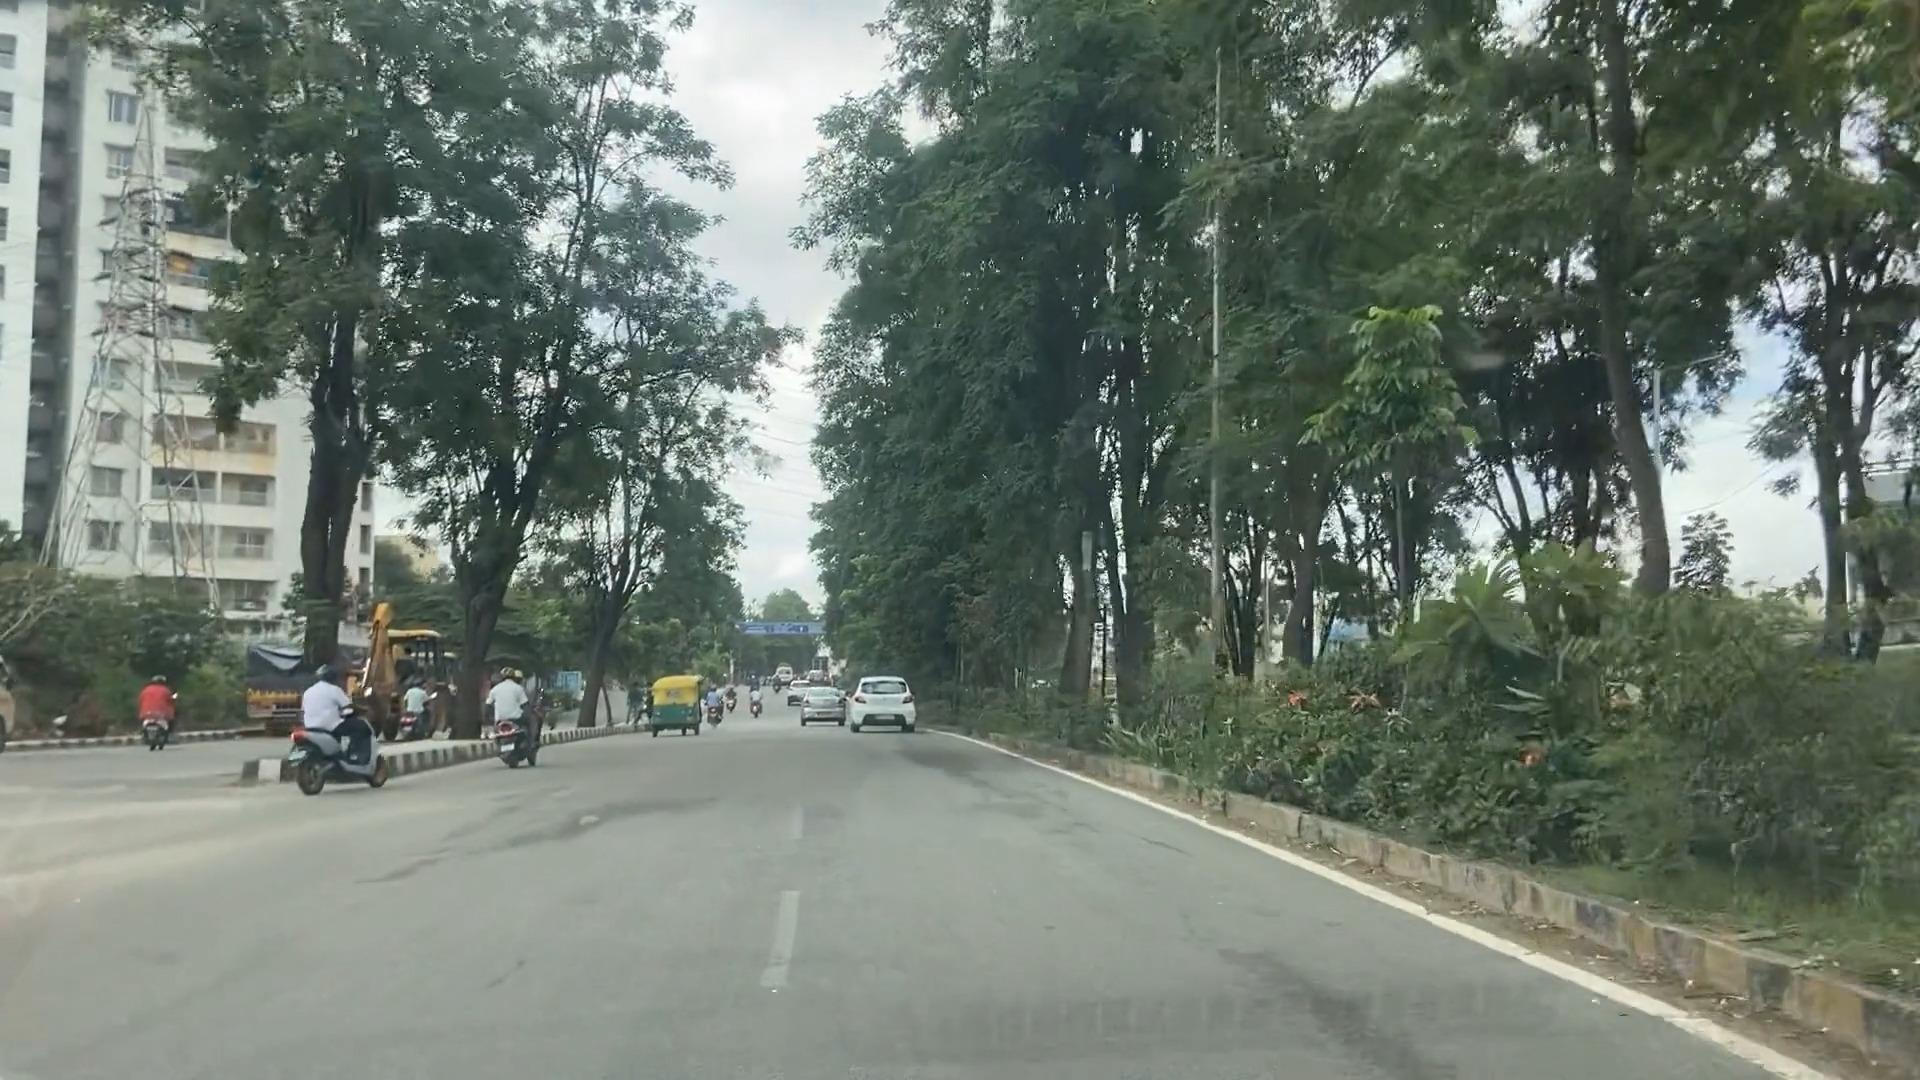LMV: (292, 688, 394, 795), (492, 668, 534, 770), (852, 674, 916, 730), (648, 680, 712, 734), (798, 688, 848, 721)
RoadDamages: (1210, 942, 1425, 1067), (374, 818, 574, 870), (572, 780, 654, 850), (902, 730, 979, 798)
